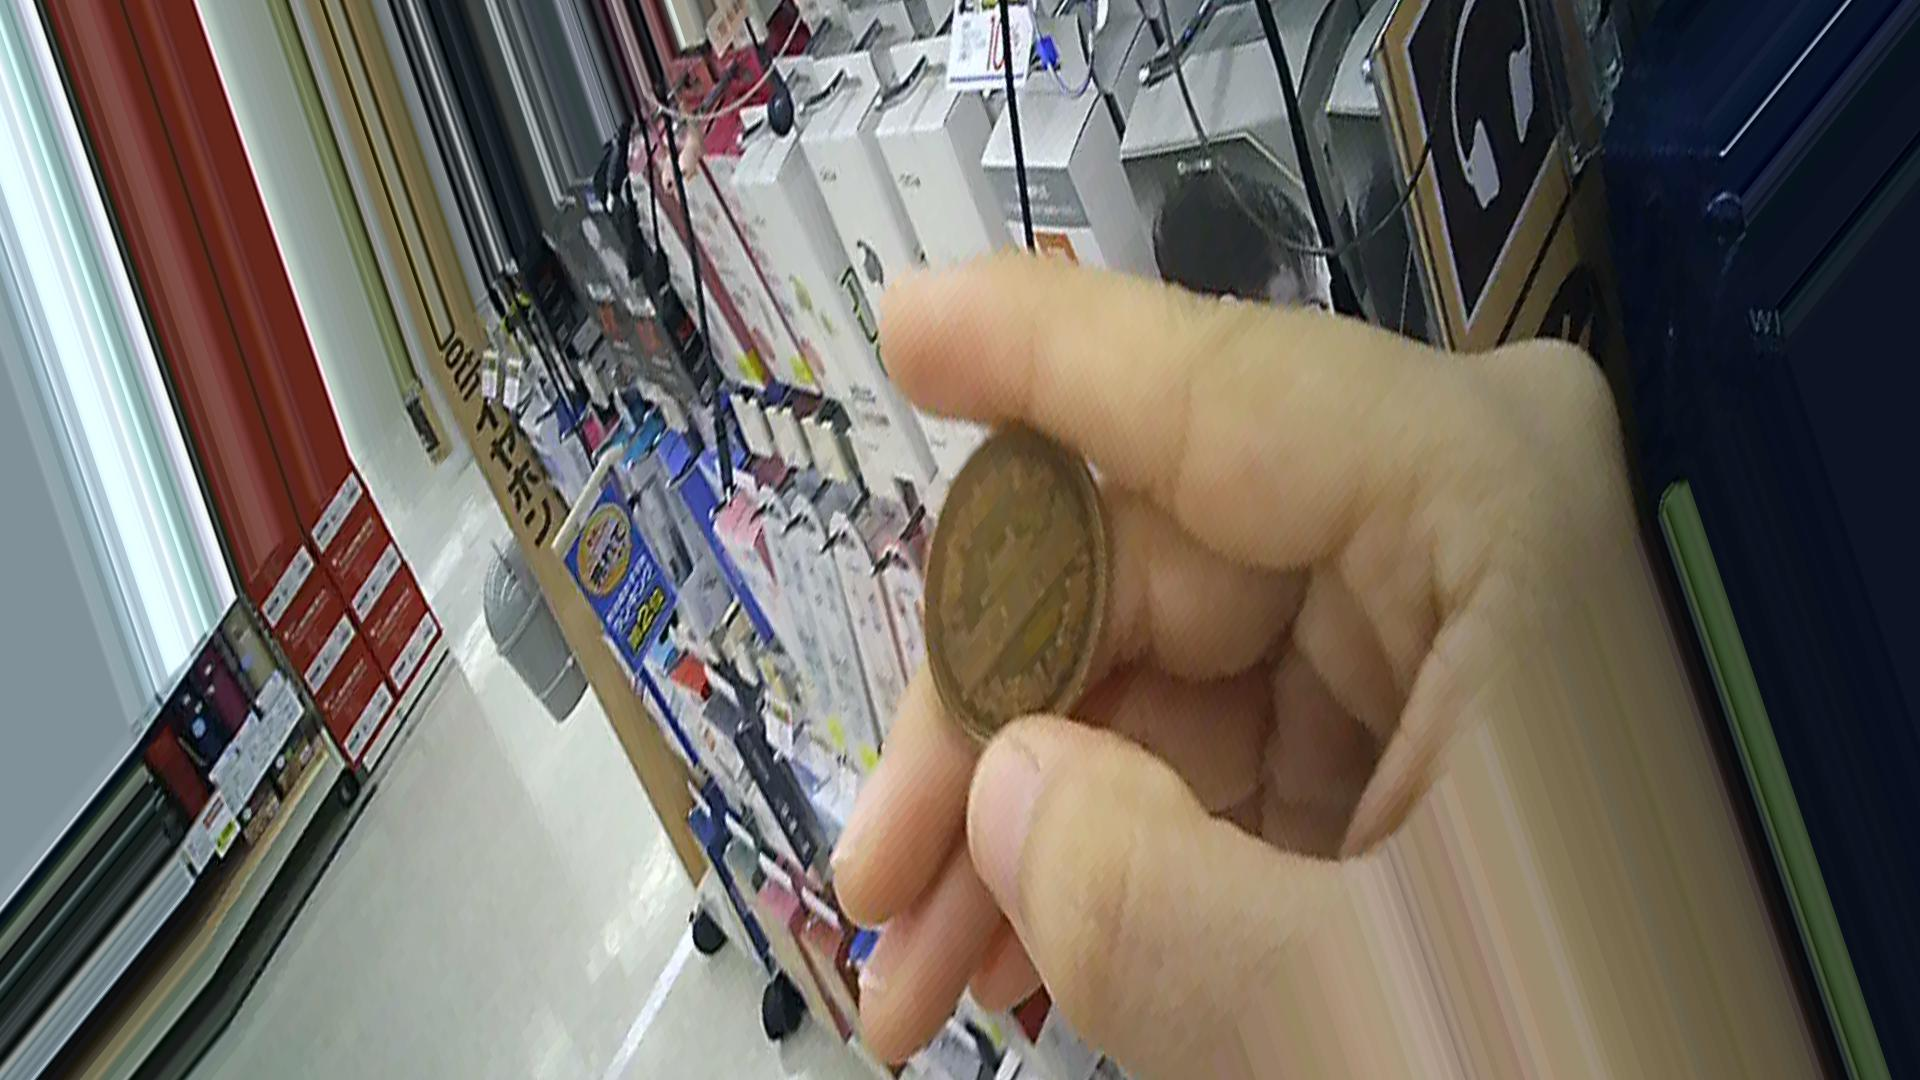10 Yen: (913, 415, 1109, 764)
